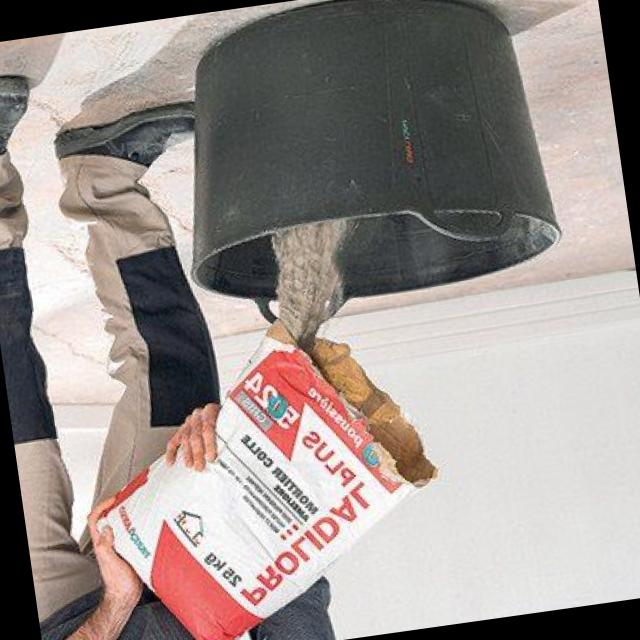KantongSemen: (76, 319, 461, 640)
